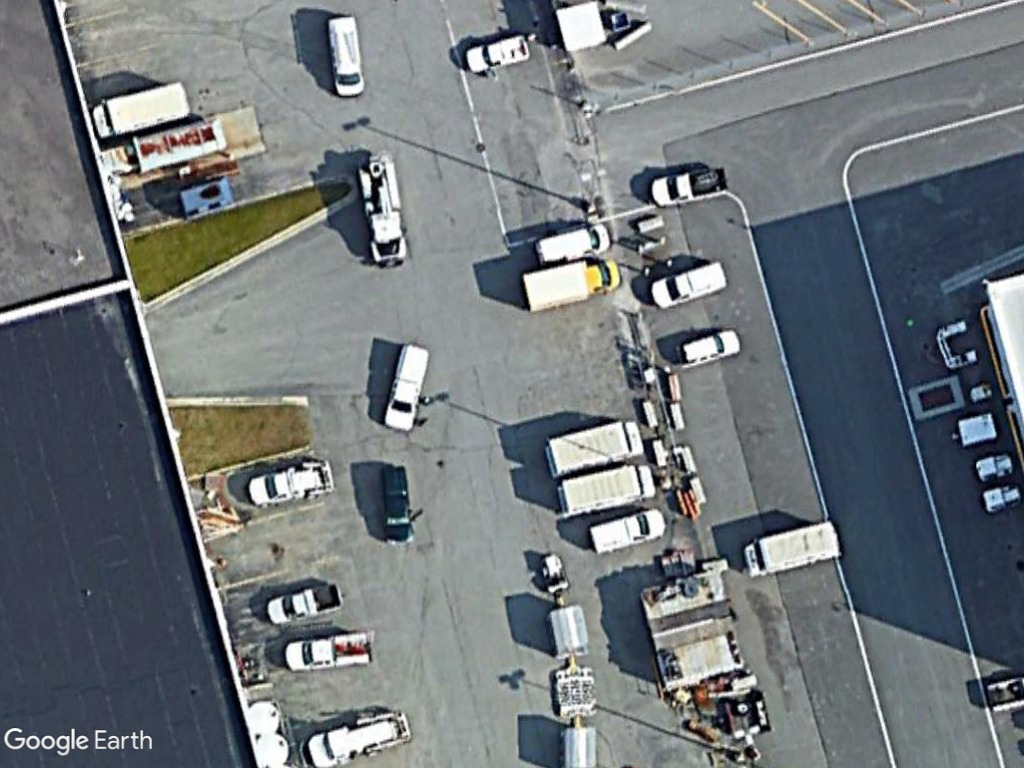car: (670, 325, 742, 367)
other: (244, 458, 332, 512), (281, 628, 376, 672), (376, 461, 419, 553), (263, 582, 348, 626), (461, 30, 533, 80)
truck: (541, 418, 651, 481), (515, 252, 622, 315), (553, 459, 662, 515)
van: (737, 513, 849, 581), (88, 77, 196, 140), (376, 336, 432, 439), (638, 257, 735, 315), (529, 219, 618, 270), (583, 503, 669, 553), (321, 11, 367, 100)
